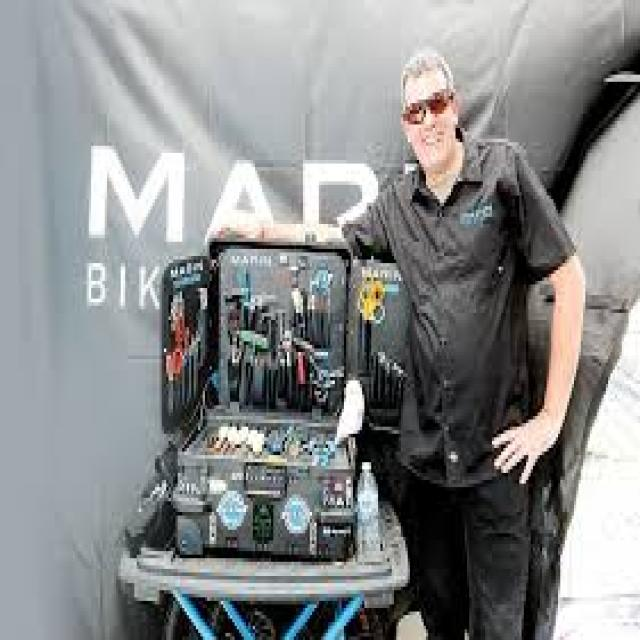tool_box: (162, 249, 364, 565)
